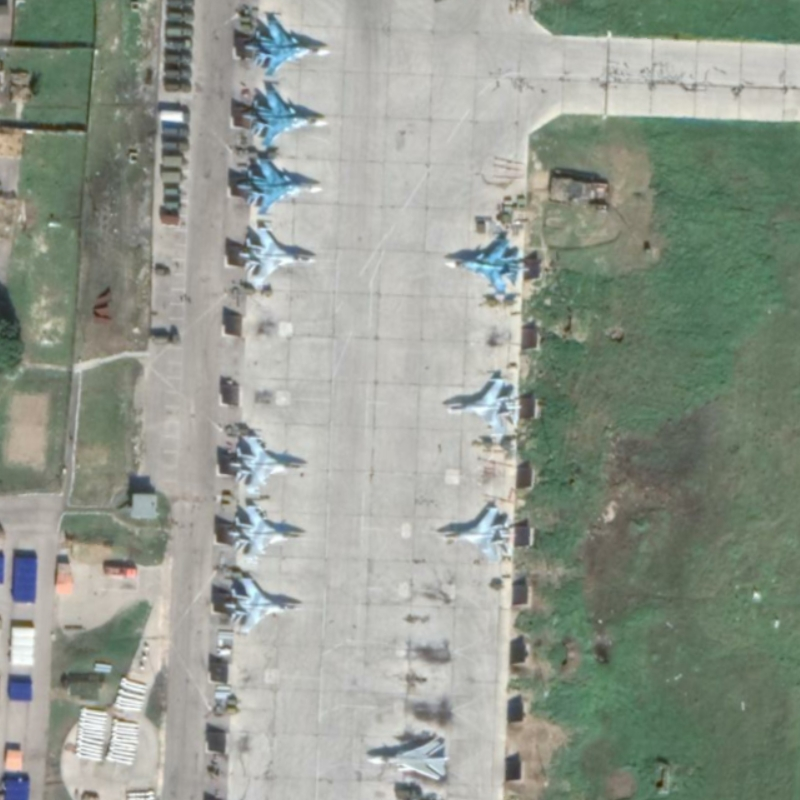A1: (238, 224, 317, 287), (222, 573, 302, 635), (445, 376, 524, 438), (227, 432, 307, 493), (437, 505, 517, 565), (225, 502, 304, 560)
A19: (243, 10, 333, 78), (240, 83, 329, 148), (233, 155, 324, 217), (442, 237, 531, 298)
A20: (363, 737, 449, 781)
